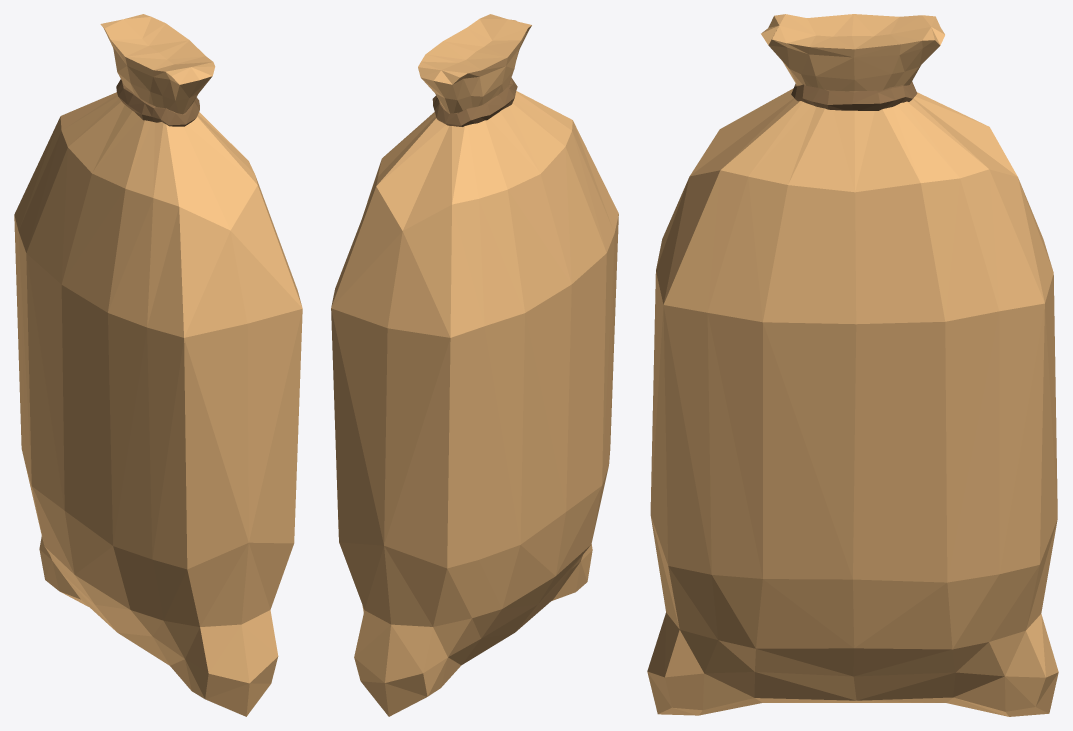
File: SFM_FP_Bag.fbx
3 renders of one model, left to right at view 1: azimuth 30°, elevation 25°; view 2: azimuth 150°, elevation 25°; view 3: azimuth 270°, elevation 25°, orthographic. The views are drawn at different scales.
Visible parts, largest first — view 1: SFM_FP_Bag; view 2: SFM_FP_Bag; view 3: SFM_FP_Bag.
Part boxes in pixels (x1,y1,x2,y2): SFM_FP_Bag: (14,14,302,716); SFM_FP_Bag: (331,14,618,716); SFM_FP_Bag: (647,14,1058,716).
Bounding box in the file's own units: 18.84 × 57.4 × 30.93.
